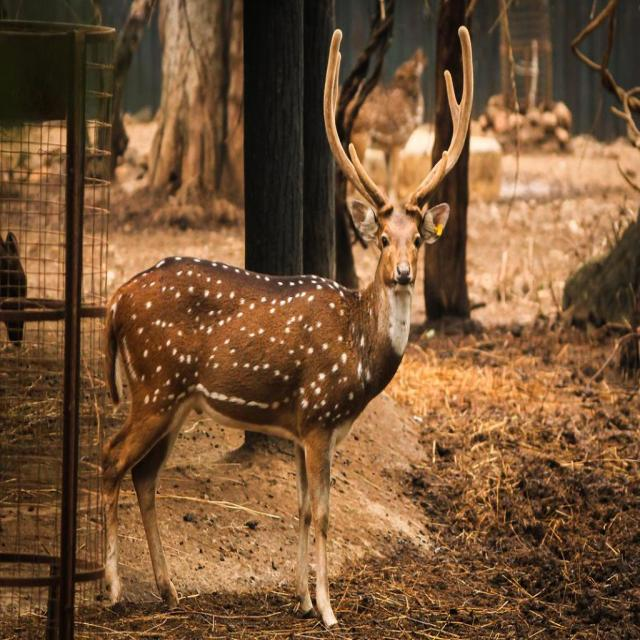Deer: (99, 22, 475, 640)
